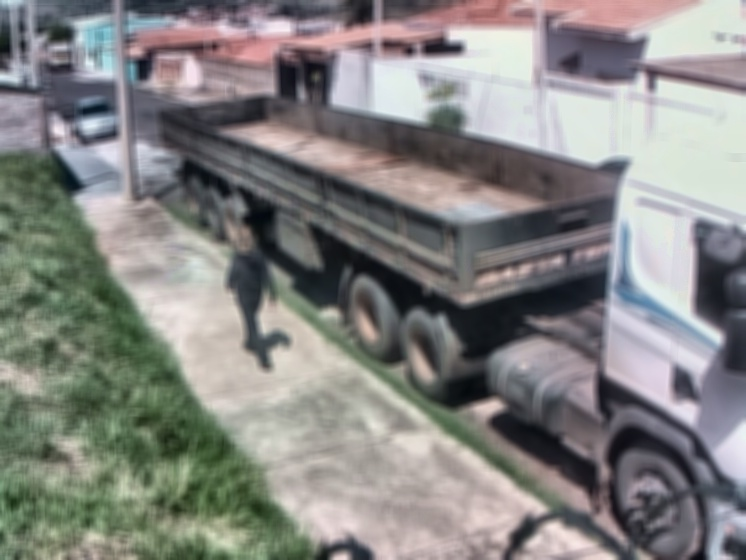person: (224, 224, 283, 372)
